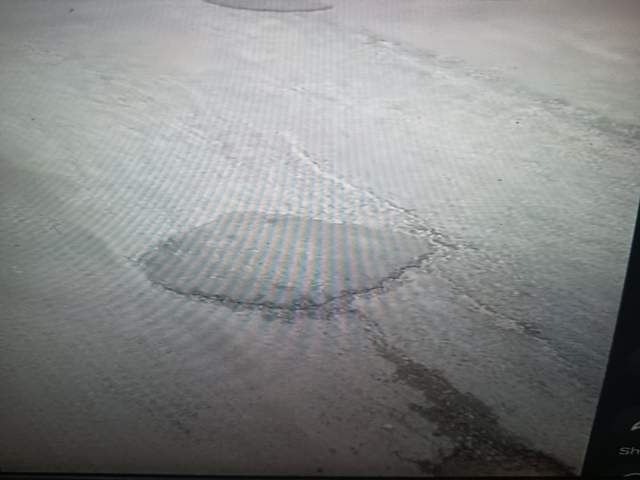pothole: (104, 403, 311, 480)
